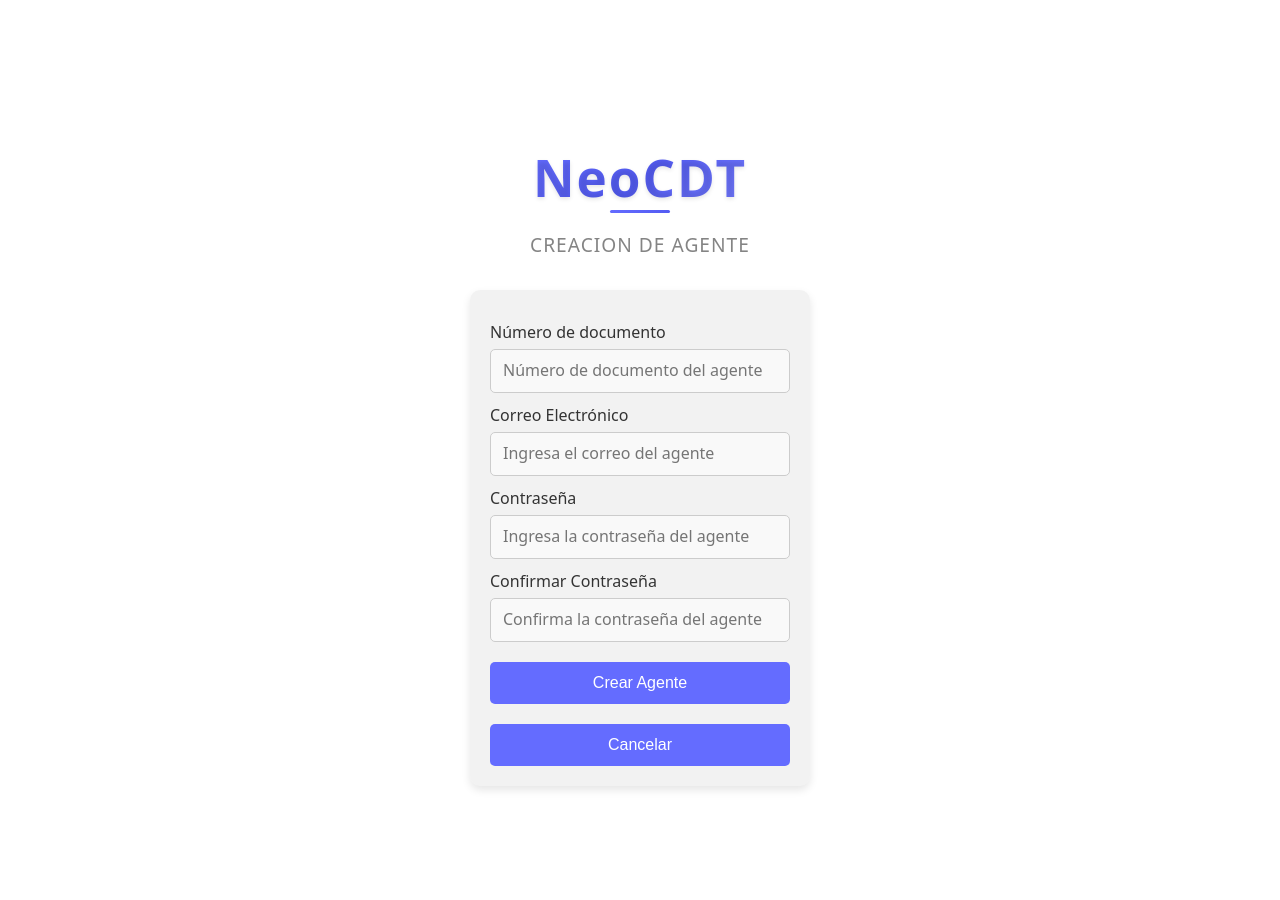
muestra popup cuando contraseñas no coinciden
# rellenar contraseña y confirmPassword diferente
In the password field with placeholder "Ingresa la contraseña del agente": (640, 537) [490, 515, 790, 559], type "Inicio2025*/"
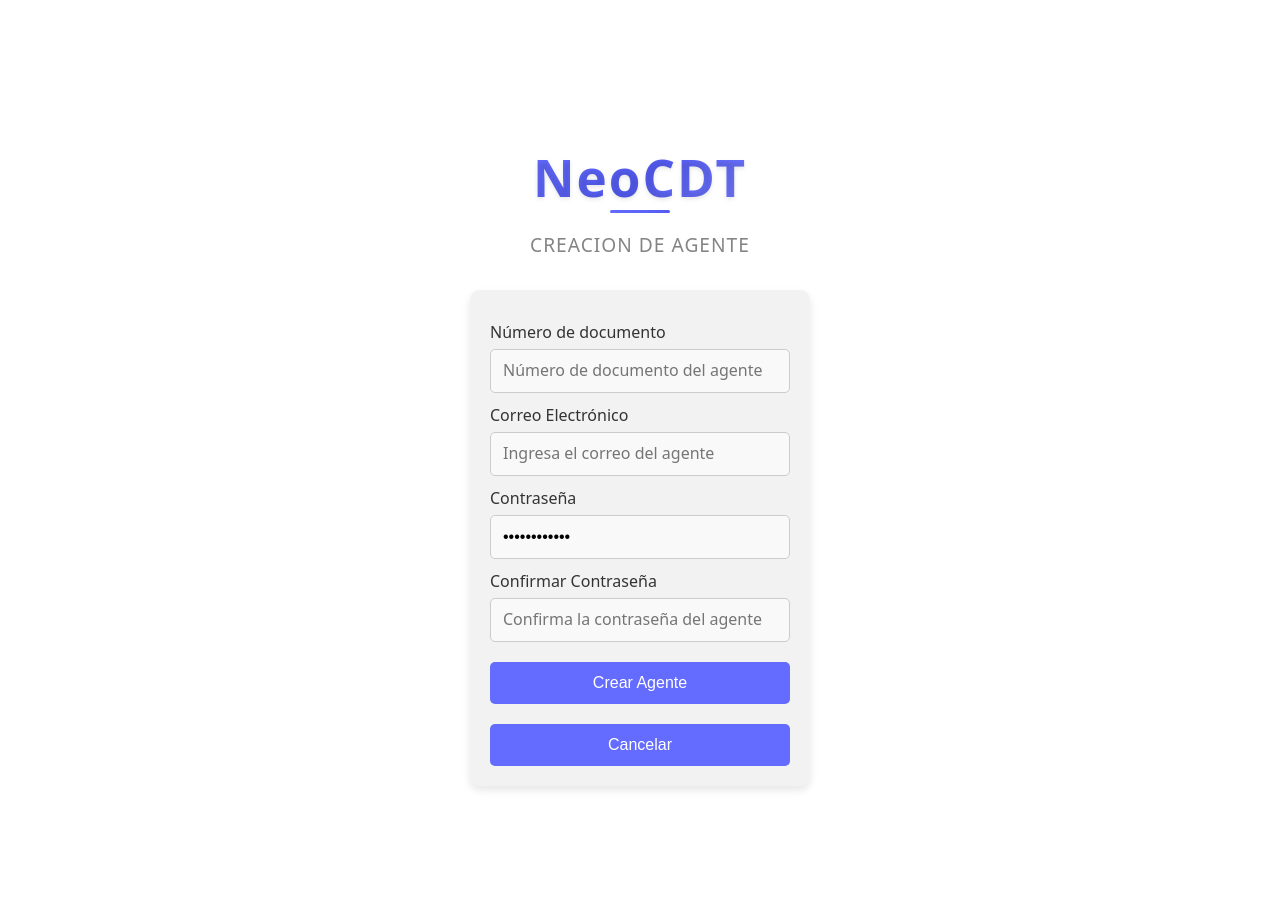
In the password field with placeholder "Confirma la contraseña del agente": (640, 620) [490, 598, 790, 642], type "OtherPass1!"
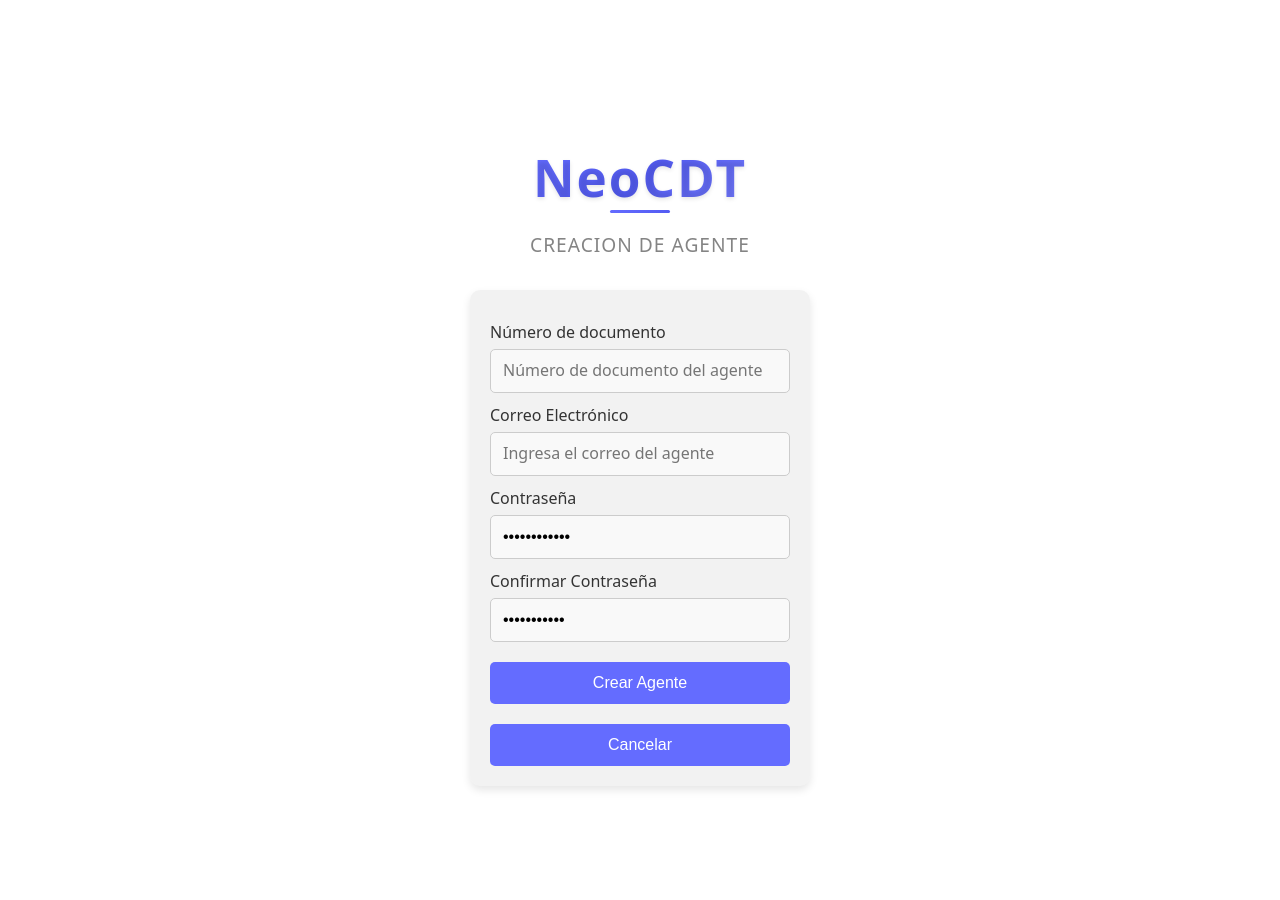
# pulsar el botón "Crear Agente"
Click the button "Crear Agente": (640, 683) [490, 662, 790, 704]
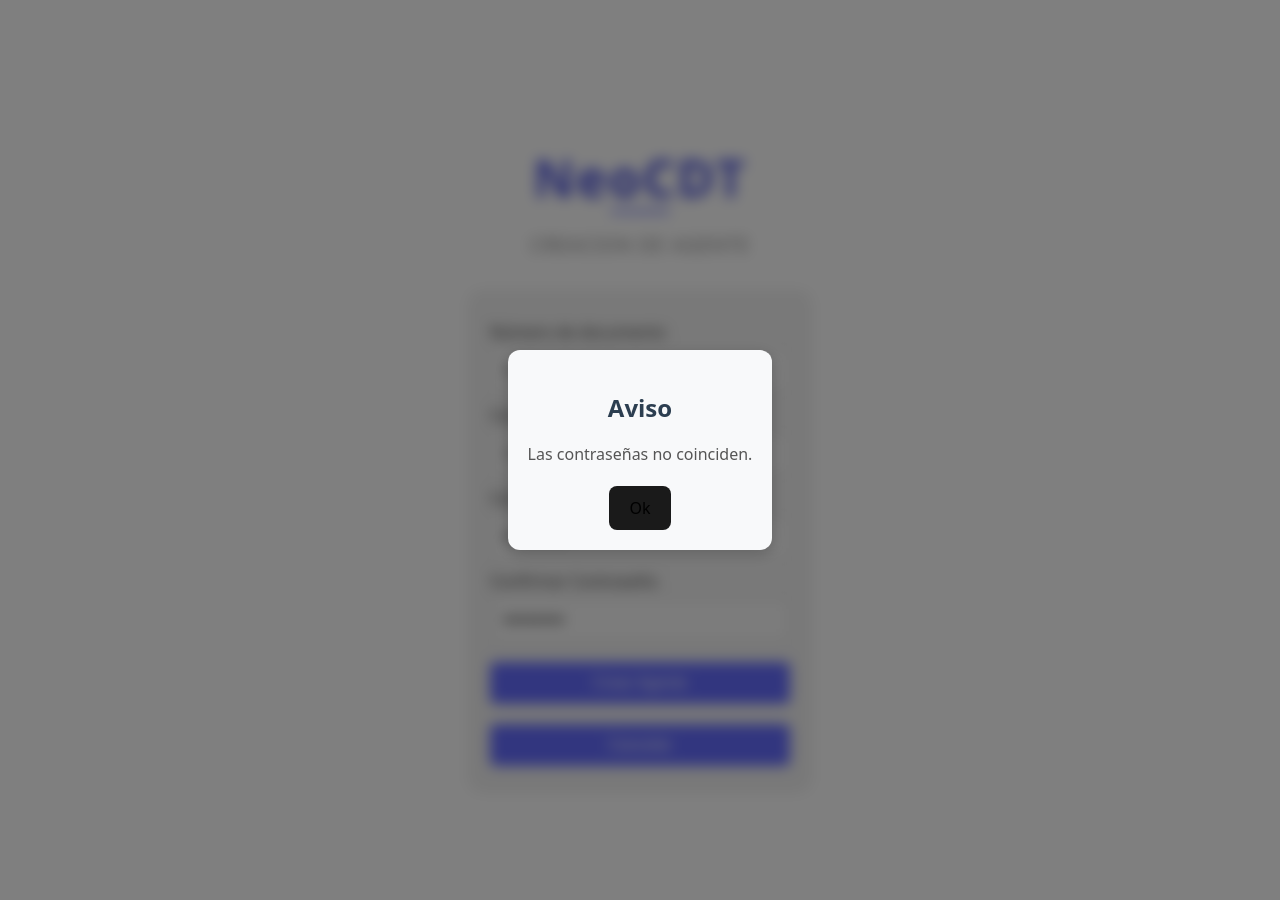
Expected: the text "Las contraseñas no coinciden." is shown, [528, 442, 752, 466]
